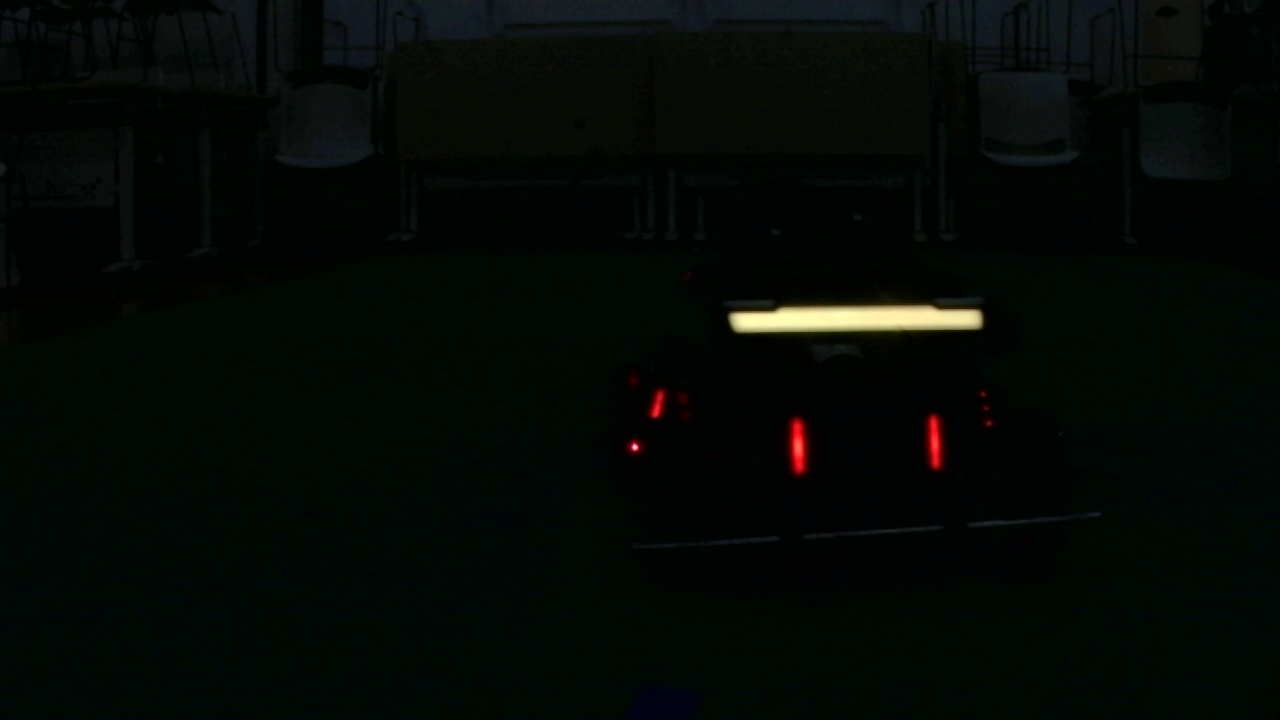lamp: (790, 406, 809, 479), (926, 411, 946, 475), (648, 368, 668, 418)
notpair1: (649, 389, 808, 479)
pair1: (790, 417, 946, 478)
